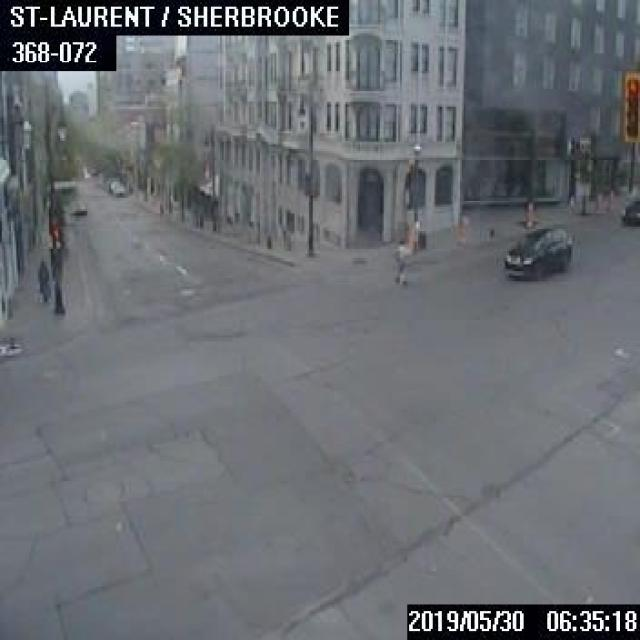construction: (520, 199, 535, 227)
pedestrian: (391, 233, 409, 287), (35, 256, 49, 311)
vehicle: (502, 224, 569, 280), (620, 191, 638, 227), (106, 178, 126, 195), (71, 200, 84, 216)
